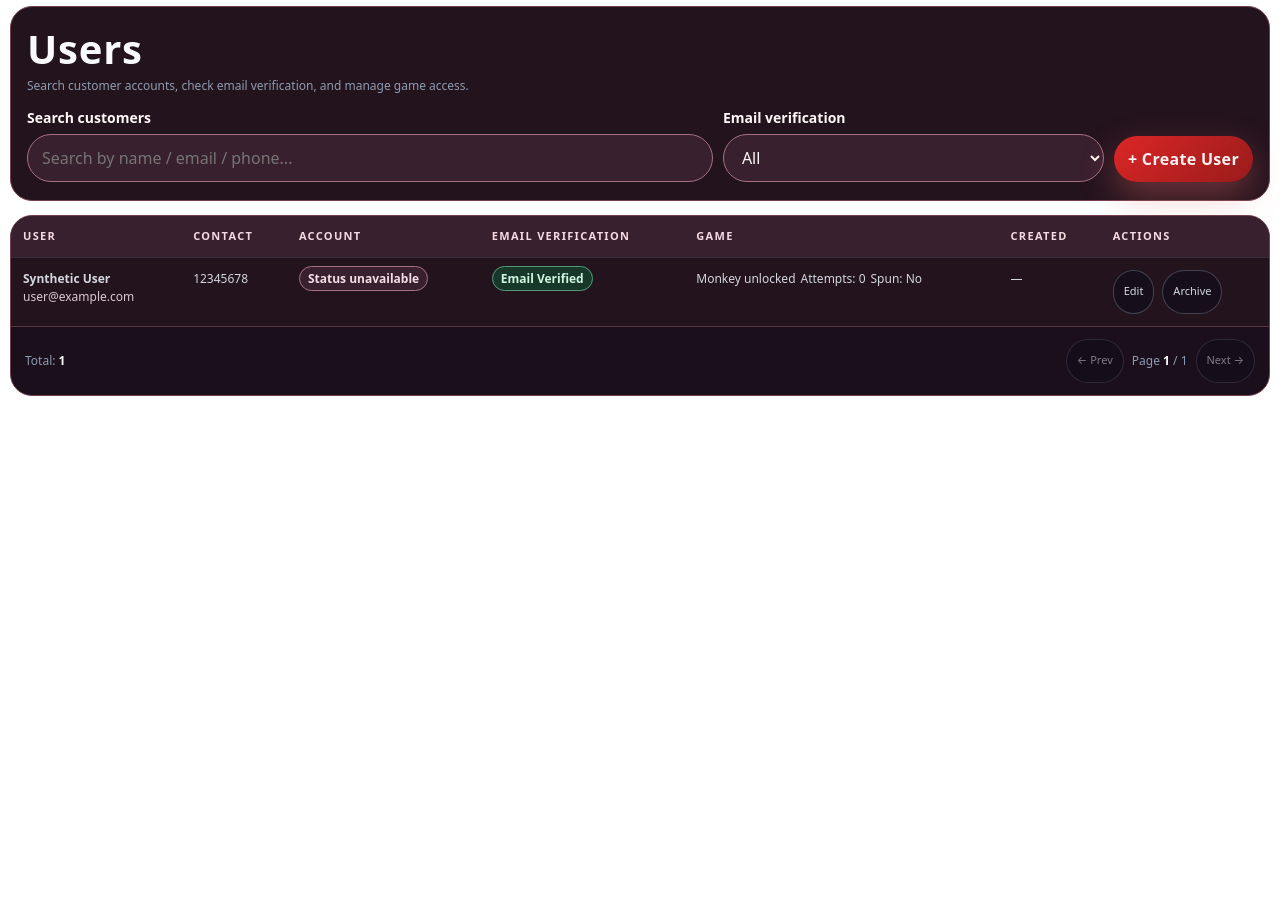
Test case: unsupported customer privilege controls are read-only
Step 1. Click the button "Edit" → (1134, 292), box [1113, 270, 1154, 314]
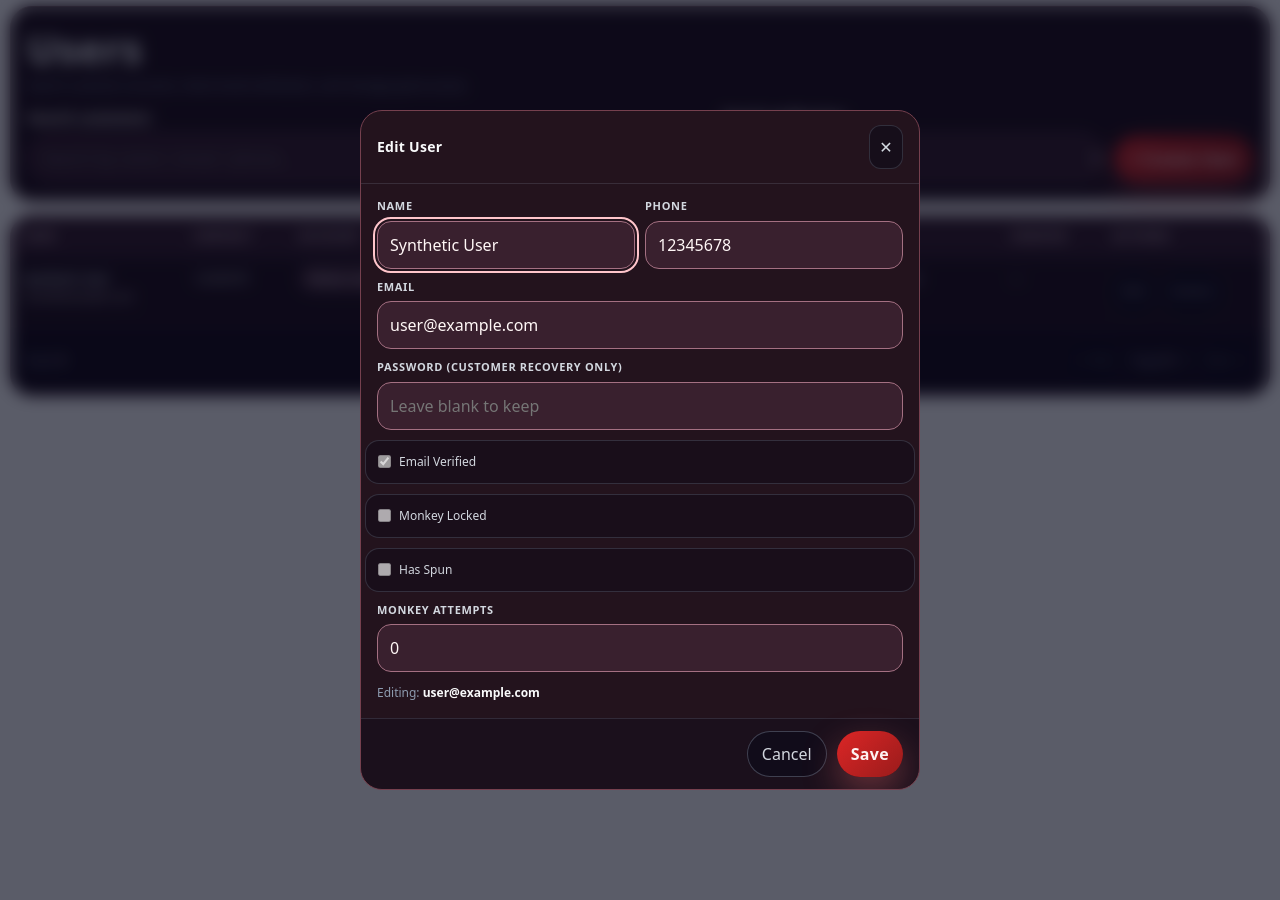
Expected: the checkbox named "Email Verified" is disabled, [378, 455, 391, 468]
Expected: the checkbox named "Monkey Locked" is disabled, [378, 509, 391, 522]
Expected: the checkbox named "Has Spun" is disabled, [378, 563, 391, 576]
